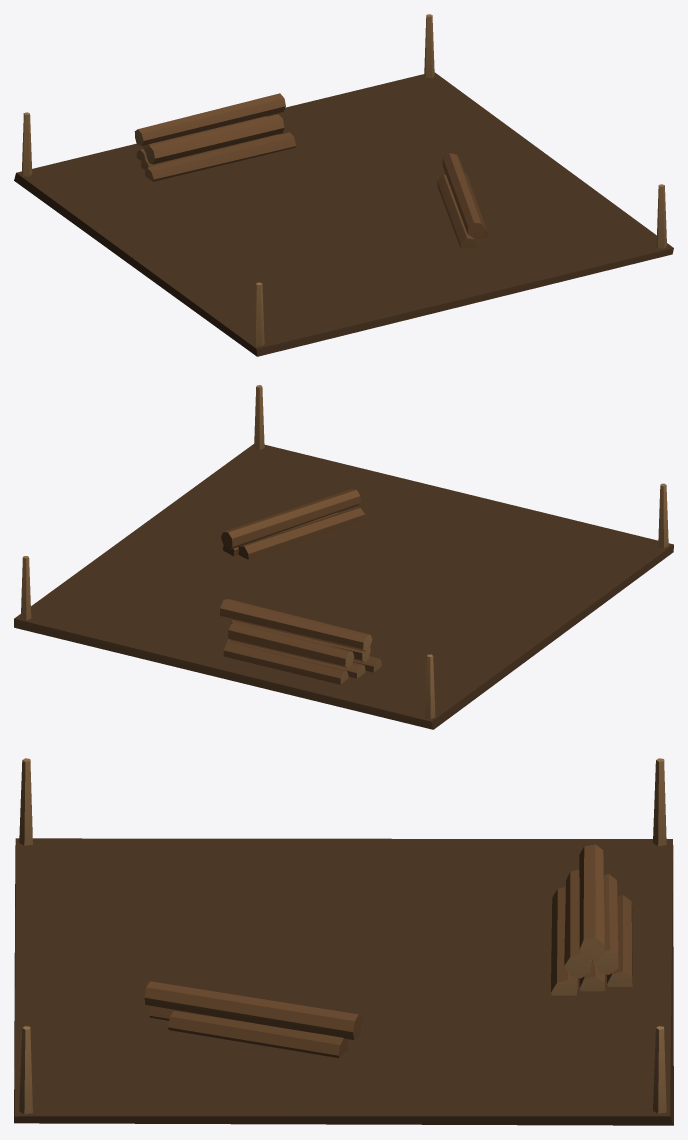
File: pasture_s0.glb
3 views of the same model, one above another, from view 1: azimuth 30°, elevation 25°; view 2: azimuth 150°, elevation 25°; view 3: azimuth 270°, elevation 25° (orthographic). The views are drawn at different scales.
Visible parts, largest first — view 1: pasture_s0; view 2: pasture_s0; view 3: pasture_s0.
Part boxes in pixels (bbox=[...]): pasture_s0: bbox=[14, 14, 673, 356]; pasture_s0: bbox=[14, 385, 673, 729]; pasture_s0: bbox=[14, 758, 673, 1125].
Size of the model in its own units: 2.91 by 0.4557 by 2.92.
